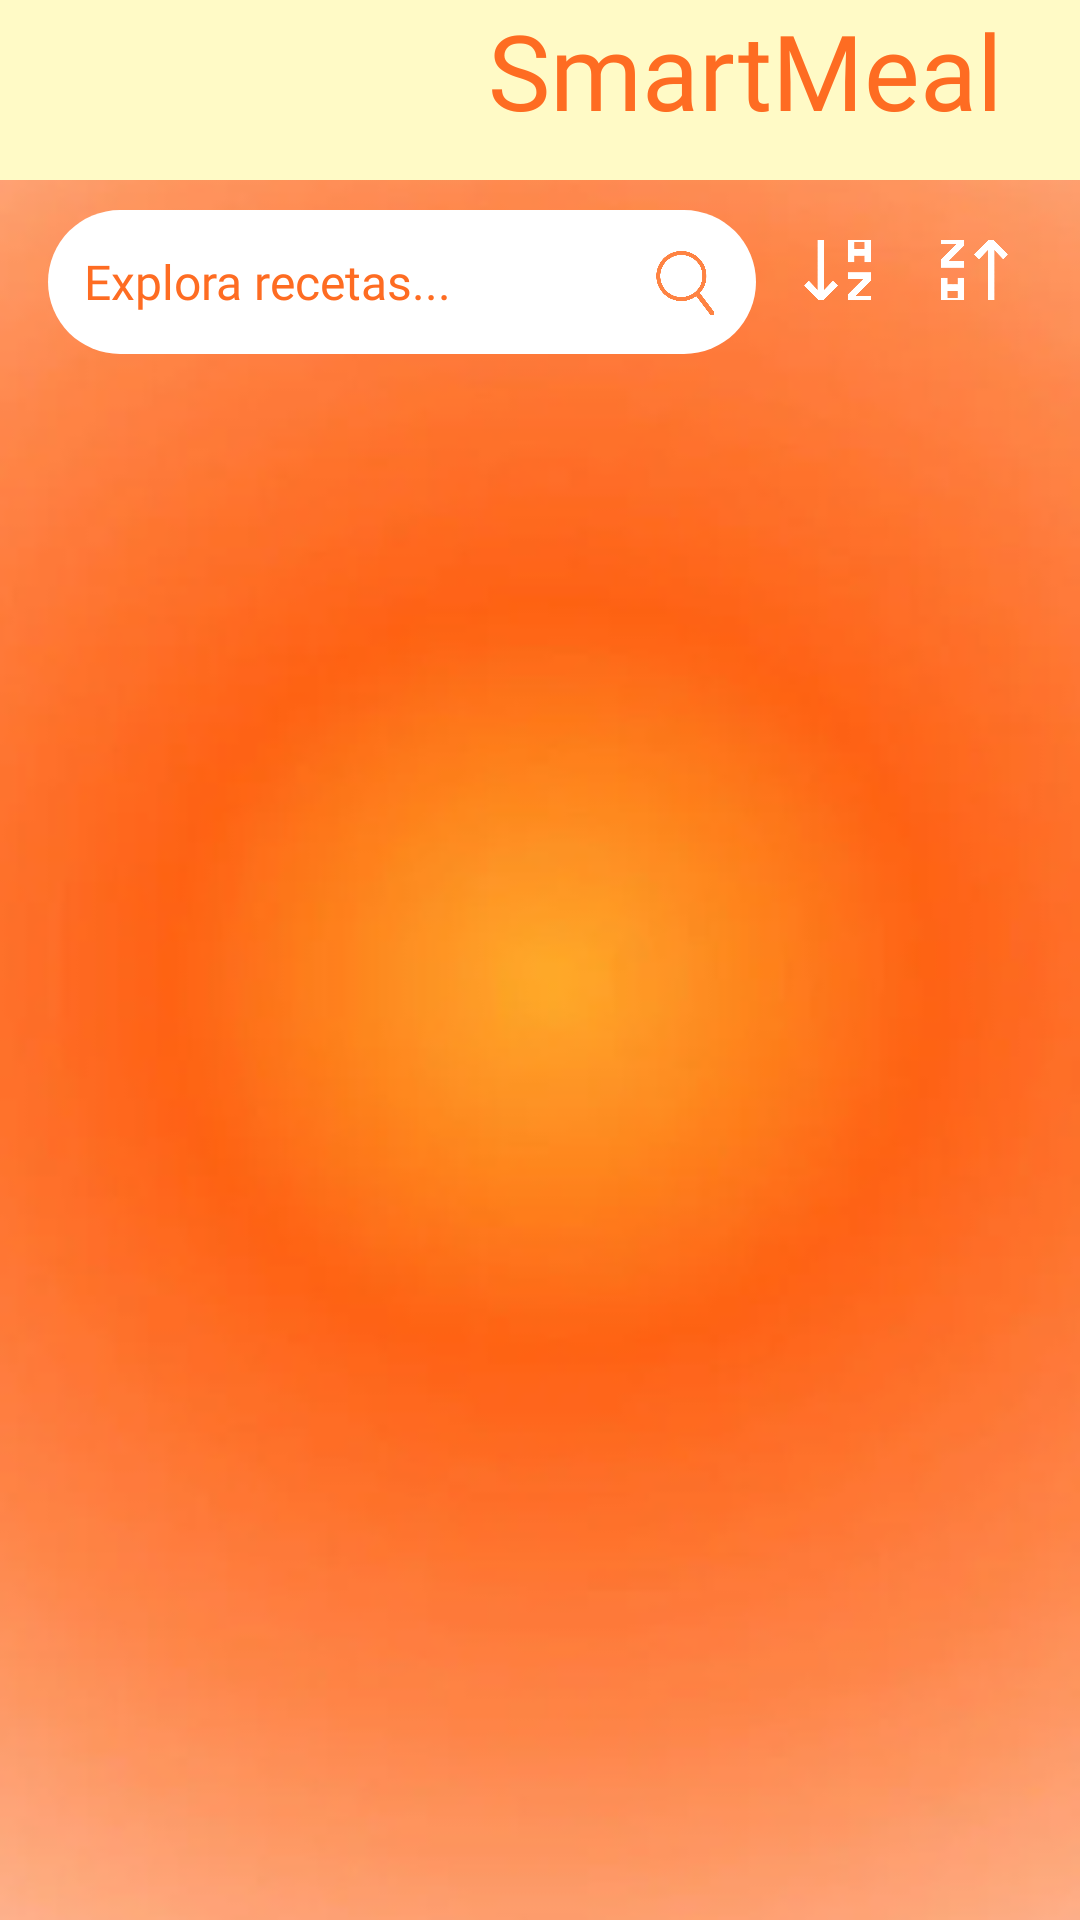

Icon click points for this 1080 × 1920 phone screenshot, format [x,y]:
Buscar: [685,283]
Ordenar A-Z: [837,270]
